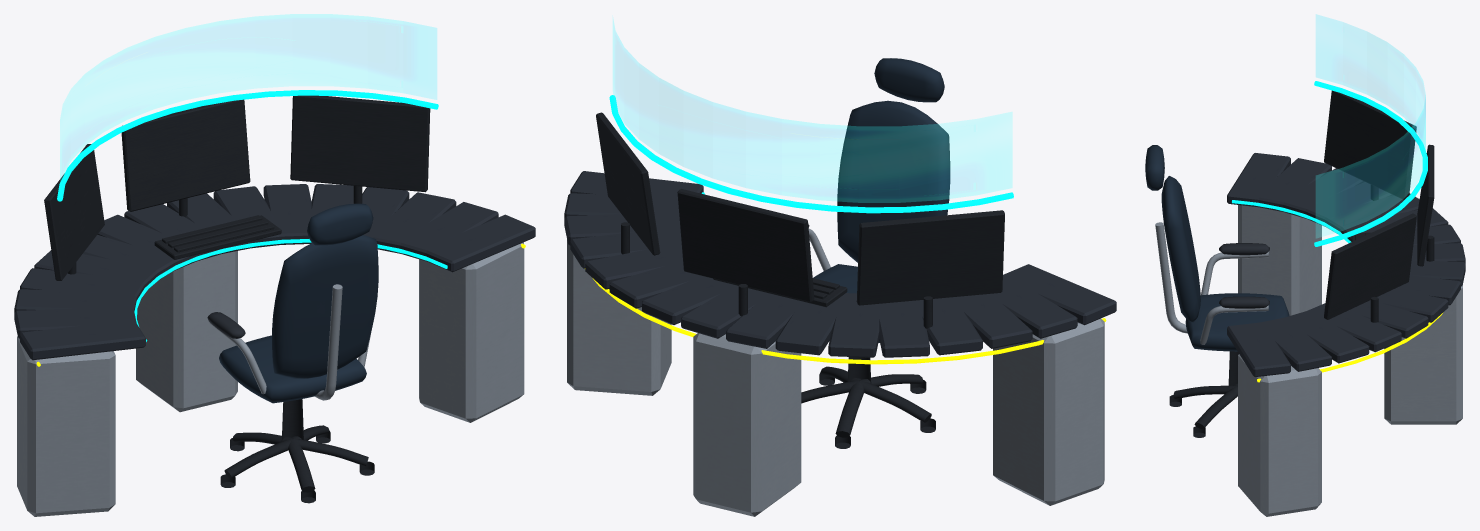
Rendered from desk_r1_02.glb.
The picture shows the model from 3 angles, left to right: view 1: azimuth 30°, elevation 25°; view 2: azimuth 150°, elevation 25°; view 3: azimuth 270°, elevation 25°; orthographic projection. The views are drawn at different scales.
Visible parts, largest first — view 1: Desk02_TitaniumPedestals, Desk02_CarbonSlateUTop, Desk02_MonitorBezelsAndMounts, Desk02_TacticalHoloArc, Desk02_OrbitalChair_BackCushion, Desk02_OrbitalChair_SwivelBase, Desk02_OrbitalChair_SeatCushion, Desk02_KeyDeck, Desk02_HoloArcRail, Desk02_OrbitalChair_Headrest, Desk02_OrbitalChair_BackSpine, Desk02_CyanEdgeLED; view 2: Desk02_TitaniumPedestals, Desk02_CarbonSlateUTop, Desk02_TacticalHoloArc, Desk02_MonitorBezelsAndMounts, Desk02_OrbitalChair_BackCushion, Desk02_OrbitalChair_SwivelBase, Desk02_HoloArcRail, Desk02_OrbitalChair_Headrest, Desk02_AmberUnderLED, Desk02_KeyDeck, Desk02_OrbitalChair_SeatCushion; view 3: Desk02_TitaniumPedestals, Desk02_CarbonSlateUTop, Desk02_MonitorBezelsAndMounts, Desk02_TacticalHoloArc, Desk02_OrbitalChair_BackCushion, Desk02_OrbitalChair_SeatCushion, Desk02_HoloArcRail, Desk02_OrbitalChair_SwivelBase, Desk02_OrbitalChair_BackSpine, Desk02_OrbitalChair_Headrest, Desk02_OrbitalChair_ArmPadL, Desk02_OrbitalChair_ArmPadR (+4 smaller).
Part boxes in pixels (x1,y1,x2,y2): Desk02_TitaniumPedestals: (17,242,524,516); Desk02_CarbonSlateUTop: (14,184,535,360); Desk02_MonitorBezelsAndMounts: (44,95,430,280); Desk02_TacticalHoloArc: (60,14,436,188); Desk02_OrbitalChair_BackCushion: (272,235,378,379); Desk02_OrbitalChair_SwivelBase: (220,399,374,503); Desk02_OrbitalChair_SeatCushion: (219,335,366,403); Desk02_KeyDeck: (154,215,281,259); Desk02_HoloArcRail: (57,90,438,201); Desk02_OrbitalChair_Headrest: (307,203,373,245); Desk02_OrbitalChair_BackSpine: (315,284,342,400); Desk02_CyanEdgeLED: (134,239,447,341); Desk02_TitaniumPedestals: (567,239,1104,516); Desk02_CarbonSlateUTop: (564,171,1116,357); Desk02_TacticalHoloArc: (613,19,1012,202); Desk02_MonitorBezelsAndMounts: (596,112,1004,328); Desk02_OrbitalChair_BackCushion: (837,100,950,262); Desk02_OrbitalChair_SwivelBase: (801,357,935,448); Desk02_HoloArcRail: (609,95,1013,213); Desk02_OrbitalChair_Headrest: (874,58,944,102); Desk02_AmberUnderLED: (585,268,1106,364); Desk02_KeyDeck: (713,278,847,307); Desk02_OrbitalChair_SeatCushion: (813,264,879,342); Desk02_TitaniumPedestals: (1238,205,1462,516); Desk02_CarbonSlateUTop: (1227,153,1465,376); Desk02_MonitorBezelsAndMounts: (1324,90,1434,322); Desk02_TacticalHoloArc: (1316,14,1425,237); Desk02_OrbitalChair_BackCushion: (1161,176,1200,322); Desk02_OrbitalChair_SeatCushion: (1185,293,1289,351); Desk02_HoloArcRail: (1314,81,1427,246); Desk02_OrbitalChair_SwivelBase: (1169,351,1238,437); Desk02_OrbitalChair_BackSpine: (1155,222,1187,333); Desk02_OrbitalChair_Headrest: (1145,145,1164,190); Desk02_OrbitalChair_ArmPadL: (1219,296,1269,308); Desk02_OrbitalChair_ArmPadR: (1219,243,1269,255).
Bounding box in the file's own units: 2.34 × 1.61 × 1.47.
Materials: 9 (9 with a texture image).
